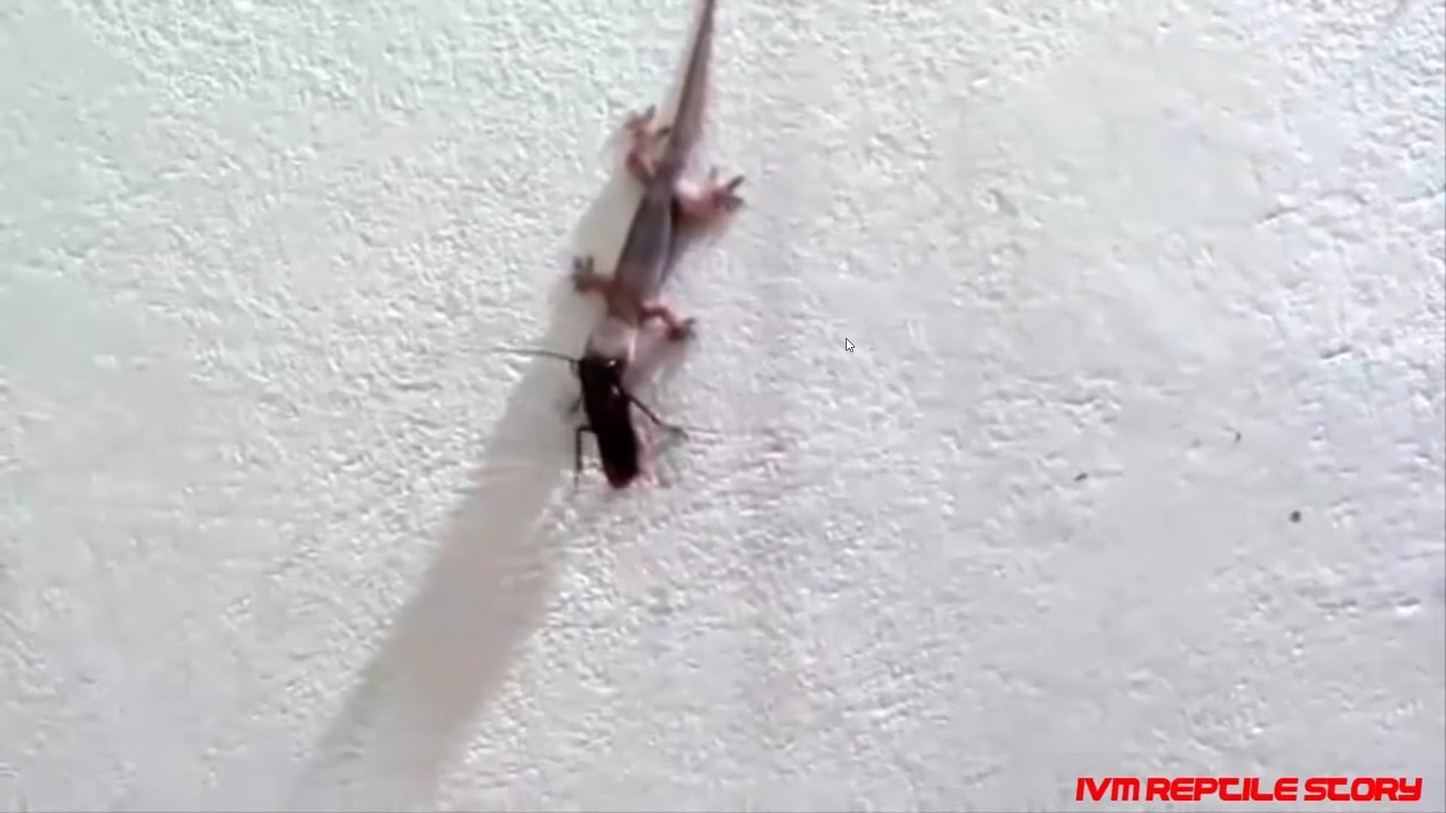cockroach: (548, 347, 668, 496)
lizard: (573, 31, 732, 363)
